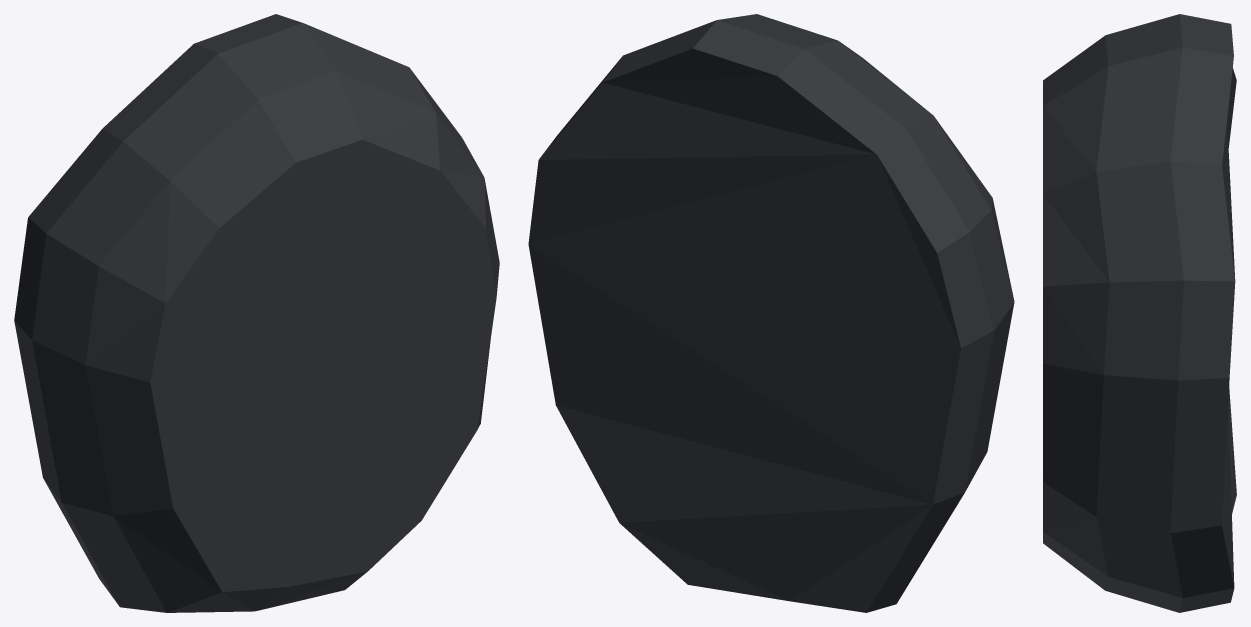
File: FERNSTONE_FROST.shadow.glb
The picture shows the model from 3 angles, left to right: view 1: azimuth 30°, elevation 25°; view 2: azimuth 150°, elevation 25°; view 3: azimuth 270°, elevation 25°; orthographic projection.
Visible parts, largest first — view 1: Body_Mesh; view 2: Body_Mesh; view 3: Body_Mesh.
Boxes of the visible parts, box(x1,y1,x2,y2) form: Body_Mesh: box(14, 14, 499, 612); Body_Mesh: box(528, 14, 1014, 612); Body_Mesh: box(1043, 14, 1236, 612).
Size of the model in its own units: 0.2726 by 0.3257 by 0.1018.
1 material, 1 textured.
